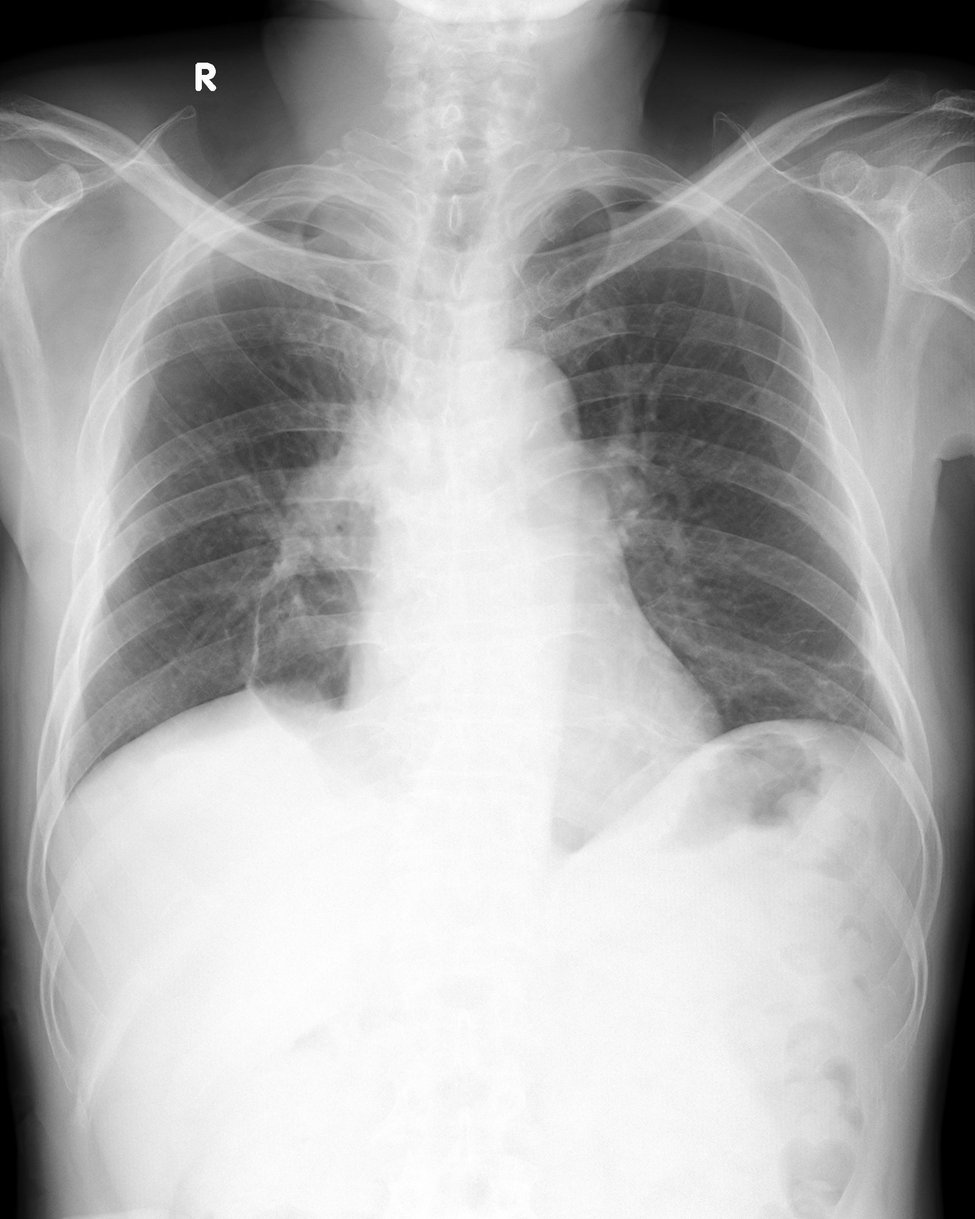Aortic enlargement: (448, 356, 583, 489)
Pulmonary fibrosis: (782, 643, 875, 685), (242, 582, 266, 701)
